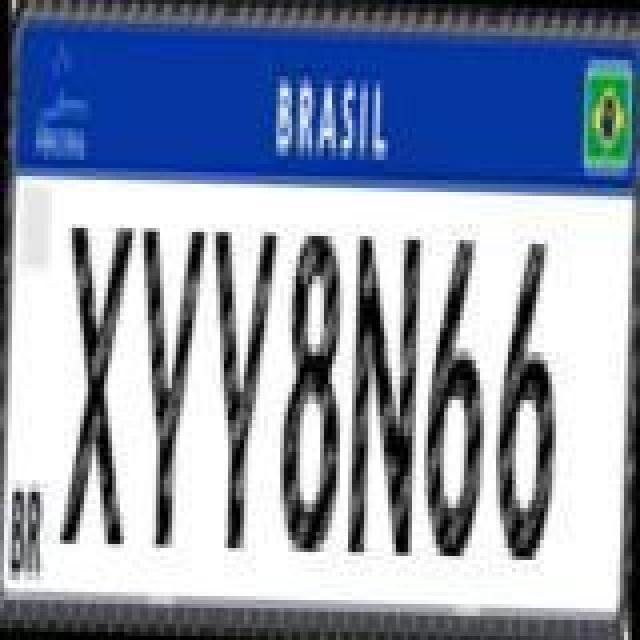6: (418, 228, 494, 564), (490, 234, 566, 566)
8: (274, 224, 350, 560)
N: (342, 228, 426, 564)
X: (56, 218, 136, 550)
Y: (128, 216, 208, 552), (200, 222, 280, 554)
